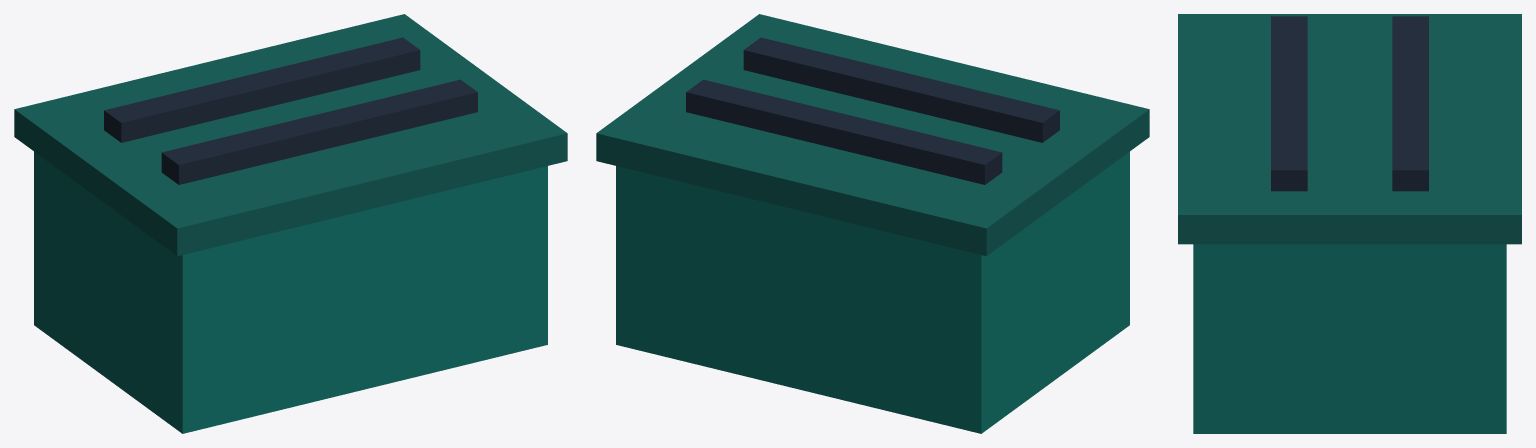
The model's file is basket.glb.
3 renders of one model, left to right at view 1: azimuth 30°, elevation 25°; view 2: azimuth 150°, elevation 25°; view 3: azimuth 270°, elevation 25°, orthographic. The views are drawn at different scales.
Visible parts, largest first — view 1: Basket_Tub, Basket_Rim, Handle_Grip_Back, Handle_Grip; view 2: Basket_Tub, Basket_Rim, Handle_Grip, Handle_Grip_Back; view 3: Basket_Rim, Basket_Tub, Handle_Grip, Handle_Grip_Back.
Boxes of the visible parts, x1,y1,x2,y2 form: Basket_Tub: (34, 151, 547, 433); Basket_Rim: (14, 14, 567, 256); Handle_Grip_Back: (104, 37, 420, 142); Handle_Grip: (161, 79, 477, 184); Basket_Tub: (616, 151, 1129, 433); Basket_Rim: (596, 14, 1149, 256); Handle_Grip: (743, 37, 1059, 142); Handle_Grip_Back: (686, 79, 1002, 184); Basket_Rim: (1178, 14, 1521, 244); Basket_Tub: (1193, 244, 1506, 433); Handle_Grip: (1271, 16, 1307, 191); Handle_Grip_Back: (1392, 16, 1428, 191).
Size of the model in its own units: 0.47 by 0.269 by 0.34.
